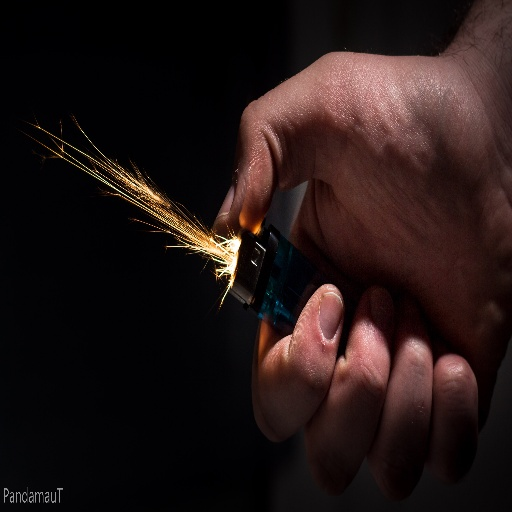hand: (212, 49, 511, 500)
